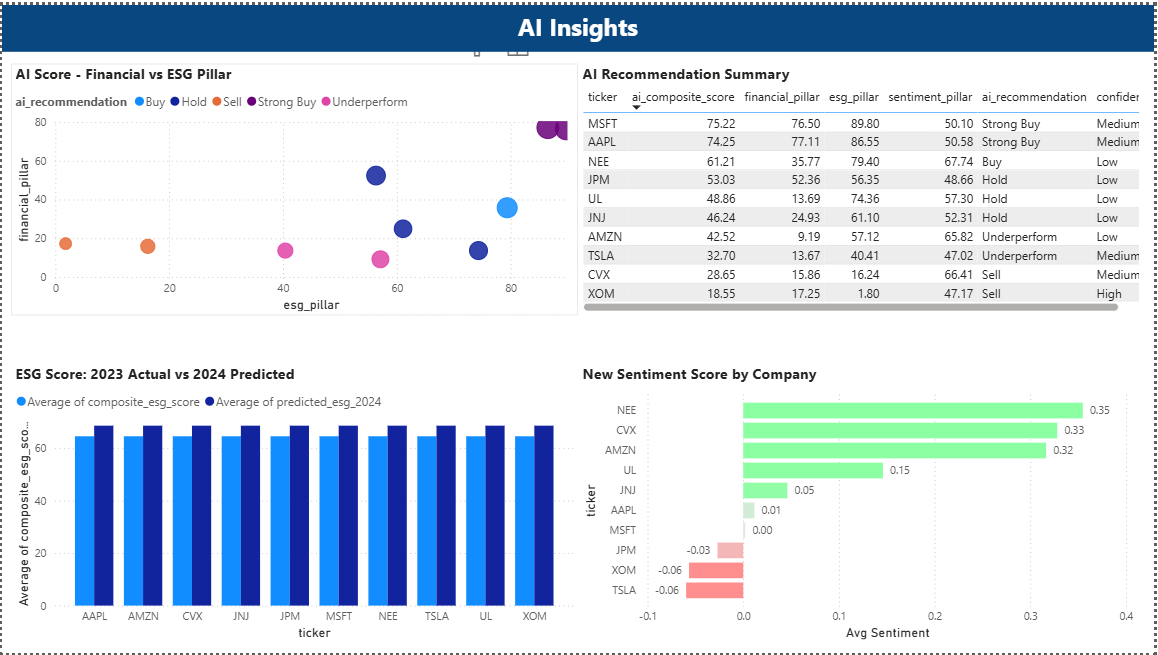

The page's visual inventory and layout, read from the dashboard file:
{"tool":"powerbi","page":{"name":"AI Insights","canvas":[1280,720],"ordinal":4},"visuals":[{"type":"scatterChart","title":"AI Score - Financial vs ESG Pillar","fields":{"X":["ai_recommendations.esg_pillar"],"Y":["ai_recommendations.financial_pillar"],"Size":["Avg(ai_recommendations.ai_composite_score)"],"Series":["ai_recommendations.ai_recommendation"]},"box":[10,65,630,280],"z":0},{"type":"barChart","title":"New Sentiment Score by Company","fields":{"Category":["ai_recommendations.ticker"],"Y":["Avg(ai_recommendations.avg_sentiment)"]},"box":[640,398.3,628.3,311.7],"z":1},{"type":"clusteredColumnChart","title":"ESG Score: 2023 Actual vs 2024 Predicted","fields":{"Category":["ai_recommendations.ticker"],"Y":["Avg(master_dataset.composite_esg_score)","Avg(esg_predictions_2024.predicted_esg_2024)"]},"box":[10,398.3,630,311.7],"z":2},{"type":"tableEx","title":"AI Recommendation Summary","fields":{"Values":["ai_recommendations.ticker","ai_recommendations.ai_composite_score","ai_recommendations.financial_pillar","ai_recommendations.esg_pillar","ai_recommendations.sentiment_pillar","ai_recommendations.ai_recommendation","ai_recommendations.confidence"]},"box":[640,65,628.3,280],"z":3},{"type":"textbox","box":[0,0,1280,51.7],"z":4}]}

Visuals, with their boxes in screenshot pixels (x1, y1, x2, y2), scaled from the page's 1280x720 canvas onto the 1158x655 screenshot:
"AI Score - Financial vs ESG Pillar" scatterChart: 9:59:579:314
"New Sentiment Score by Company" barChart: 579:362:1147:646
"ESG Score: 2023 Actual vs 2024 Predicted" clusteredColumnChart: 9:362:579:646
"AI Recommendation Summary" tableEx: 579:59:1147:314
textbox: 0:0:1157:47
